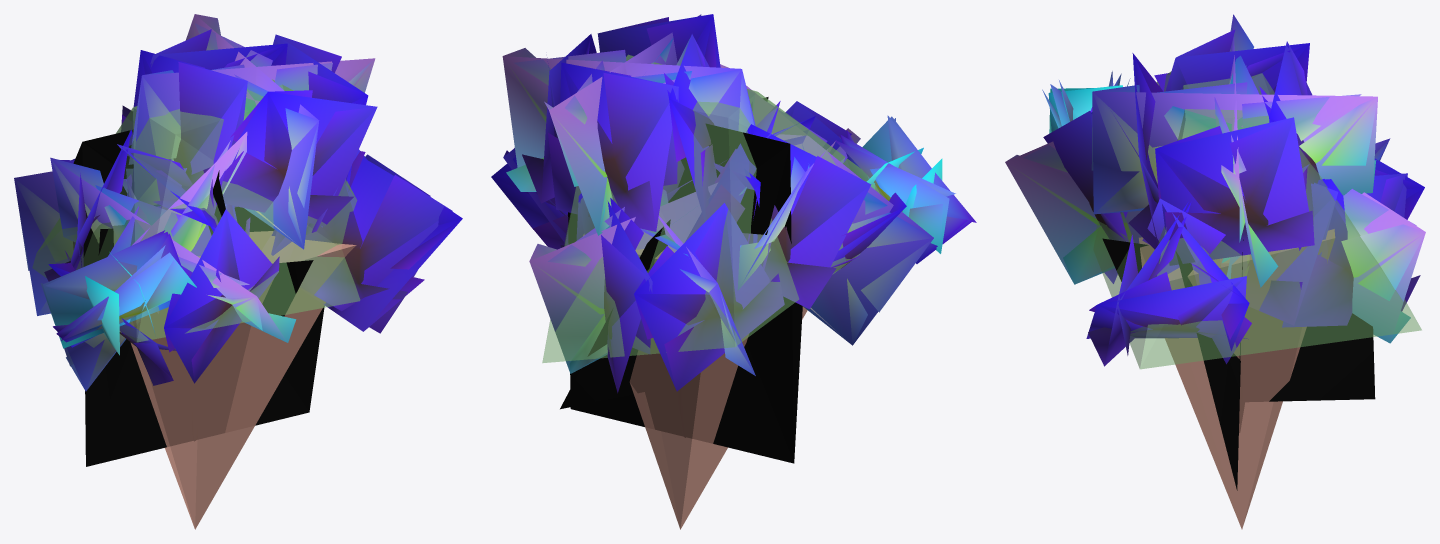
Rendered from cork_oak_bush_medium.dae.
3 views of the same model, side by side, from view 1: azimuth 30°, elevation 25°; view 2: azimuth 150°, elevation 25°; view 3: azimuth 270°, elevation 25° (orthographic). The views are drawn at different scales.
Visible parts, largest first — view 1: cork_oak_bush_small_a110, cork_oak_bush_small_a500, Colmesh-1; view 2: cork_oak_bush_small_a500, cork_oak_bush_small_a110, Colmesh-1; view 3: cork_oak_bush_small_a500, cork_oak_bush_small_a110, Colmesh-1.
Part boxes in pixels (box(x1,y1,x2,y2)): cork_oak_bush_small_a110: box(14, 14, 462, 466); cork_oak_bush_small_a500: box(14, 14, 462, 465); Colmesh-1: box(32, 79, 360, 529); cork_oak_bush_small_a500: box(491, 14, 976, 463); cork_oak_bush_small_a110: box(491, 14, 972, 462); Colmesh-1: box(542, 54, 879, 529); cork_oak_bush_small_a500: box(1006, 14, 1425, 490); cork_oak_bush_small_a110: box(1005, 16, 1425, 482); Colmesh-1: box(1093, 71, 1421, 529).
Bounding box in the file's own units: 3.49 × 2.93 × 3.77.
